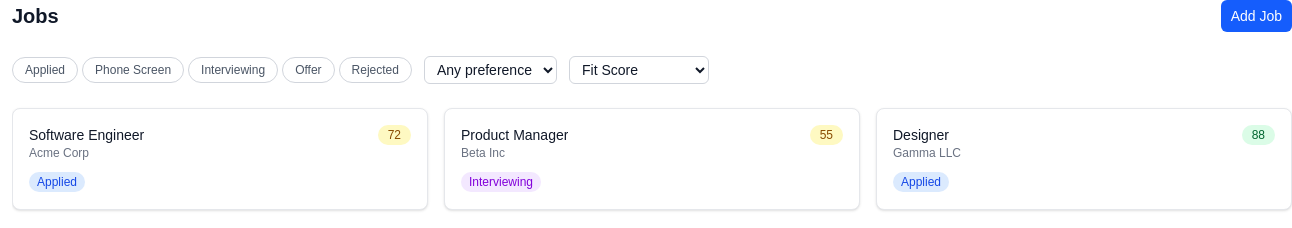
Test: Filter and sort jobs flow › changes sort order when a different option is selected
The image size is (1292, 228).
Expected: the text "Software Engineer" is shown, [29, 125, 144, 145]
Step 1. Select "Application Date" in the dropdown named "Sort by" → point(639, 70), box [569, 56, 709, 84]
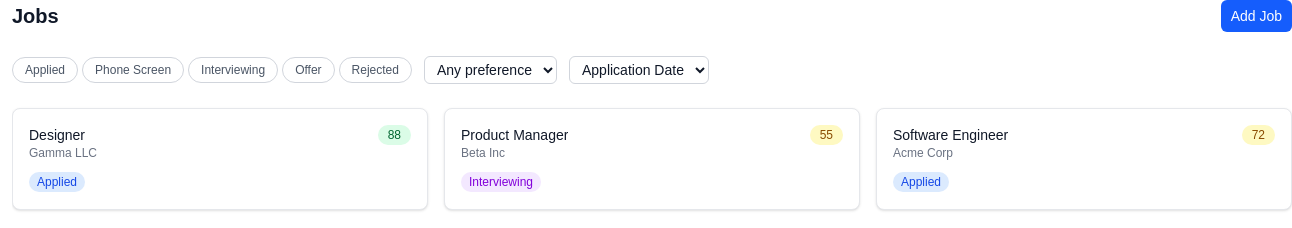
Expected: the text "Designer" is shown, [29, 127, 85, 143]
